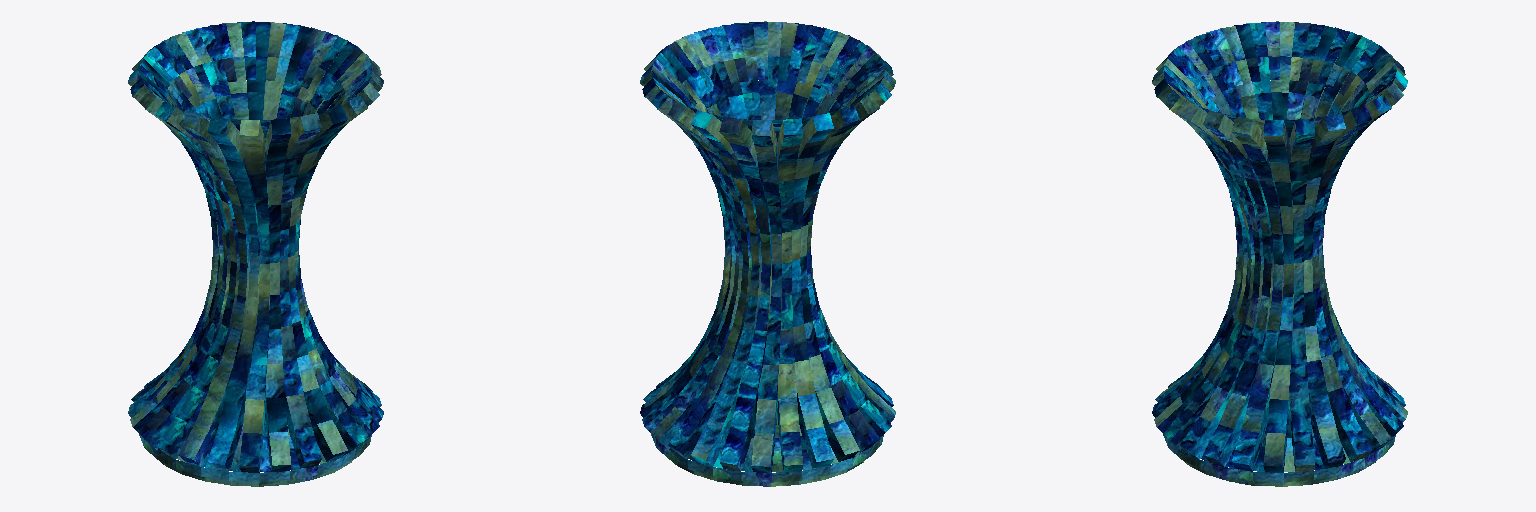
3 renders of one model, left to right at view 1: azimuth 30°, elevation 25°; view 2: azimuth 150°, elevation 25°; view 3: azimuth 270°, elevation 25°, orthographic.
Parts seen in each view (by area): view 1: mesh1_mesh1-geometry, mesh18_mesh18-geometry, mesh21_mesh21-geometry, mesh14_mesh14-geometry, mesh22_mesh22-geometry, mesh15_mesh15-geometry, mesh49_mesh49-geometry, mesh16_mesh16-geometry; view 2: mesh1_mesh1-geometry, mesh19_mesh19-geometry, mesh20_mesh20-geometry, mesh17_mesh17-geometry, mesh9_mesh9-geometry, mesh13_mesh13-geometry, mesh50_mesh50-geometry, mesh12_mesh12-geometry; view 3: mesh1_mesh1-geometry, mesh6_mesh6-geometry, mesh5_mesh5-geometry, mesh7_mesh7-geometry, mesh4_mesh4-geometry, mesh8_mesh8-geometry, mesh3_mesh3-geometry, mesh11_mesh11-geometry.
Boxes of the visible parts, x1,y1,x2,y2 form: mesh1_mesh1-geometry: [128, 21, 383, 486]; mesh18_mesh18-geometry: [237, 22, 255, 79]; mesh21_mesh21-geometry: [266, 22, 285, 80]; mesh14_mesh14-geometry: [210, 24, 236, 81]; mesh22_mesh22-geometry: [284, 25, 313, 83]; mesh15_mesh15-geometry: [182, 29, 218, 85]; mesh49_mesh49-geometry: [301, 31, 337, 88]; mesh16_mesh16-geometry: [161, 37, 203, 91]; mesh1_mesh1-geometry: [640, 21, 895, 486]; mesh19_mesh19-geometry: [749, 22, 767, 79]; mesh20_mesh20-geometry: [778, 22, 797, 80]; mesh17_mesh17-geometry: [722, 24, 748, 81]; mesh9_mesh9-geometry: [796, 25, 825, 83]; mesh13_mesh13-geometry: [694, 29, 730, 85]; mesh50_mesh50-geometry: [813, 31, 849, 88]; mesh12_mesh12-geometry: [673, 37, 715, 91]; mesh1_mesh1-geometry: [1152, 21, 1407, 486]; mesh6_mesh6-geometry: [1261, 22, 1279, 79]; mesh5_mesh5-geometry: [1290, 22, 1309, 80]; mesh7_mesh7-geometry: [1234, 24, 1260, 81]; mesh4_mesh4-geometry: [1308, 25, 1337, 83]; mesh8_mesh8-geometry: [1206, 29, 1242, 85]; mesh3_mesh3-geometry: [1325, 31, 1361, 88]; mesh11_mesh11-geometry: [1185, 37, 1227, 91].
Bounding box in the file's own units: 0.4698 × 0.7474 × 0.4698.
3 materials, 1 textured.